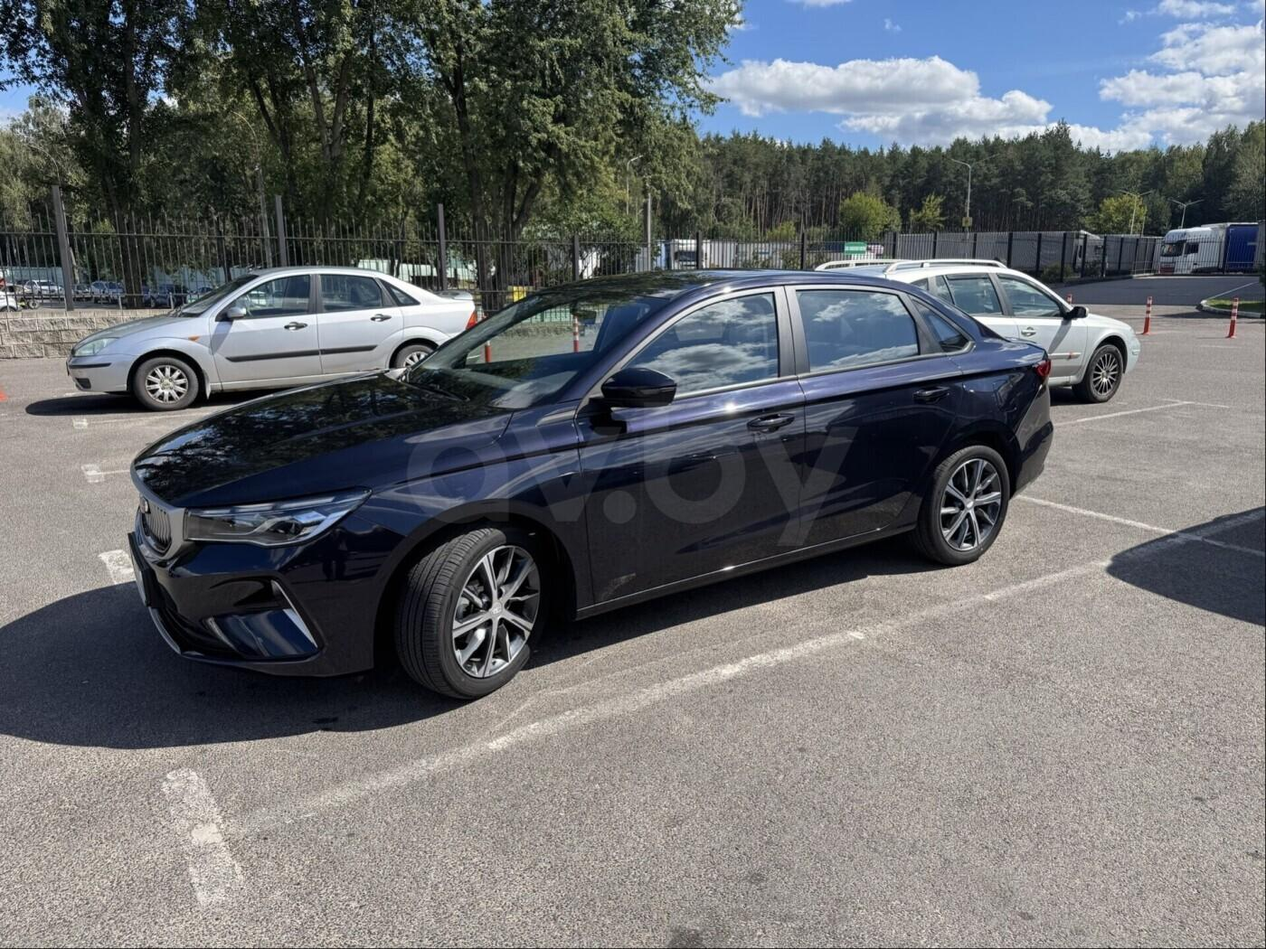Emgrand_2021: (121, 262, 1050, 702)
